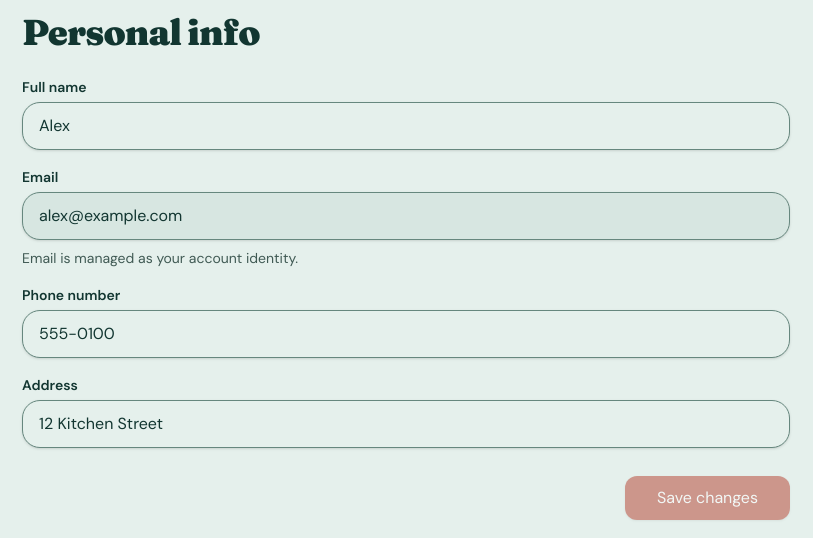
PersonalInfo › shows email as read-only and enables save only after a change
The image size is (813, 538).
Expected: the button "Save changes" is disabled, [625,476,790,520]
Clear the field labelled "Full name": (406, 126) [22,102,790,150]
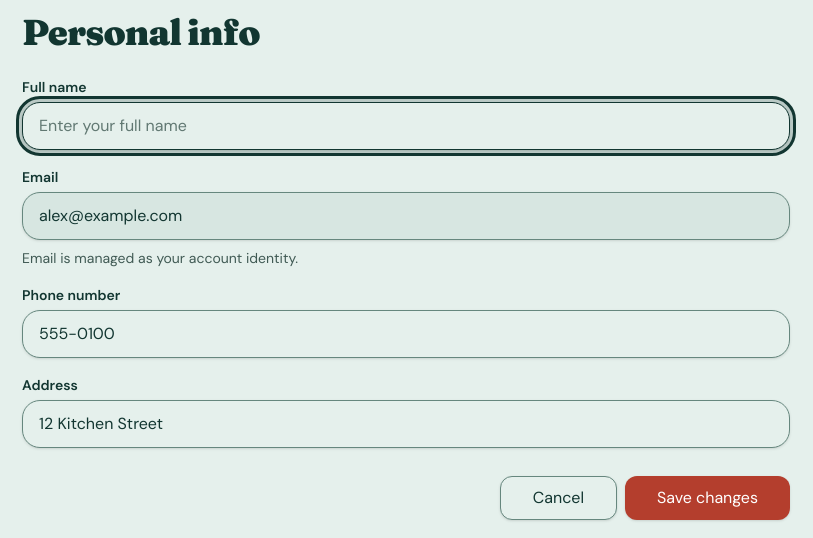
Expected: the button "Save changes" is enabled, [625,476,790,520]
